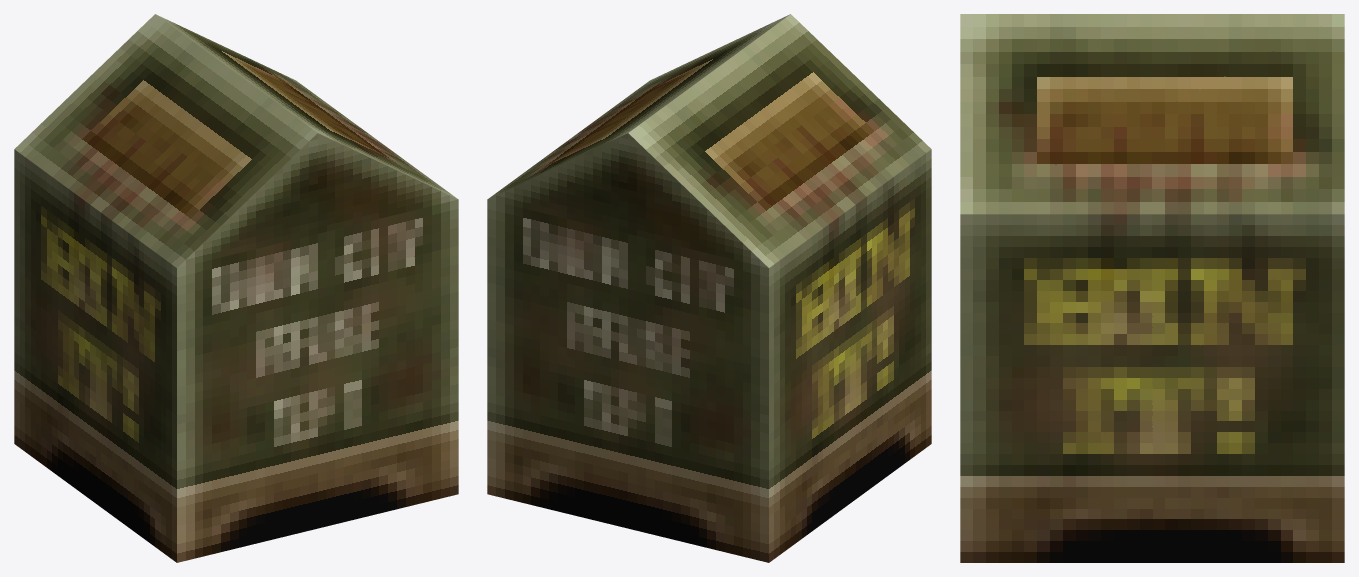
3 views of the same model, side by side, from view 1: azimuth 30°, elevation 25°; view 2: azimuth 150°, elevation 25°; view 3: azimuth 270°, elevation 25° (orthographic). The views are drawn at different scales.
Parts seen in each view (by area): view 1: prim134-Box01; view 2: prim134-Box01; view 3: prim134-Box01.
Part boxes in pixels (x1,y1,x2,y2): prim134-Box01: (14, 14, 458, 562); prim134-Box01: (487, 14, 931, 562); prim134-Box01: (960, 14, 1344, 562).
Bounding box in the file's own units: 76 × 102 × 76.
Materials: 1 (1 with a texture image).
